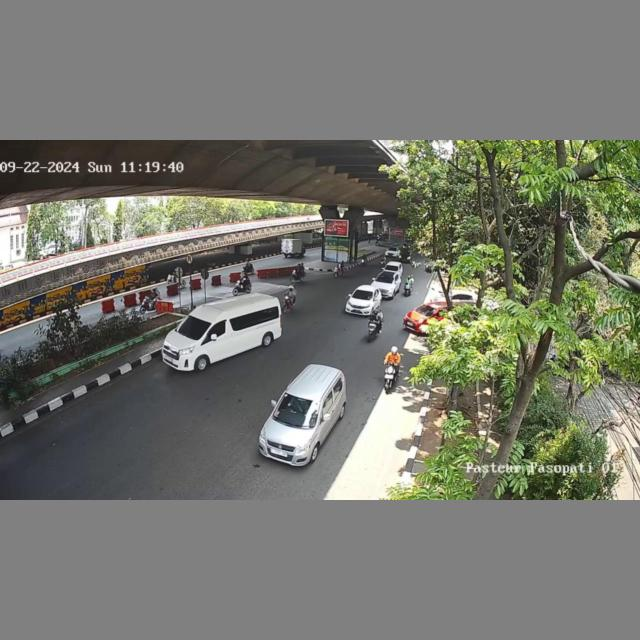windshield: (273, 394, 320, 425), (174, 314, 210, 341), (352, 291, 375, 300)
